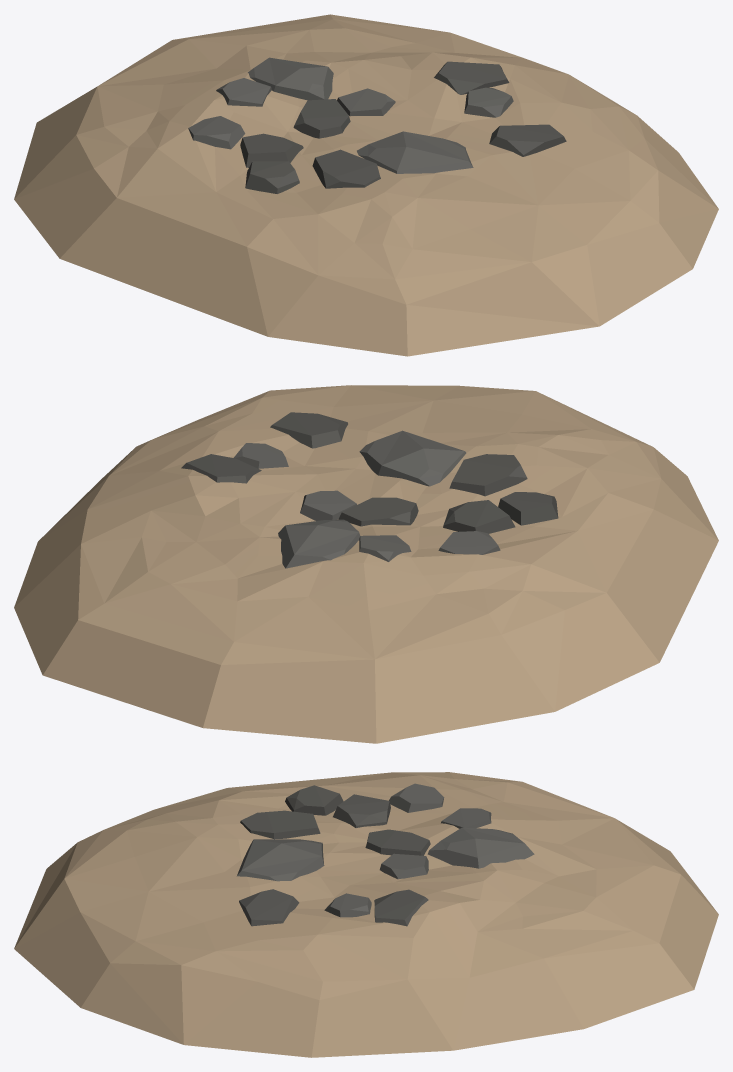
File: kingdom_SM_Env_Path_03.gltf
3 views of the same model, one above another, from view 1: azimuth 30°, elevation 25°; view 2: azimuth 150°, elevation 25°; view 3: azimuth 270°, elevation 25° (orthographic). The views are drawn at different scales.
Visible parts, largest first — view 1: SM_Env_Path_03; view 2: SM_Env_Path_03; view 3: SM_Env_Path_03.
Part boxes in pixels (bbox=[...]): SM_Env_Path_03: bbox=[14, 14, 718, 356]; SM_Env_Path_03: bbox=[14, 385, 718, 743]; SM_Env_Path_03: bbox=[14, 772, 718, 1057].
Bounding box in the file's own units: 5.26 × 0.8016 × 5.97.
Materials: 1 (1 with a texture image).
